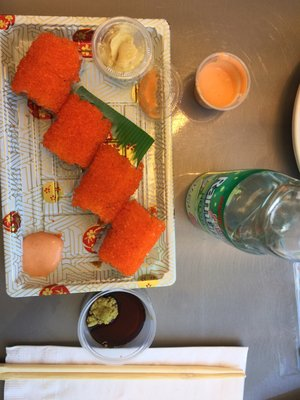sushi: (76, 288, 157, 362)
